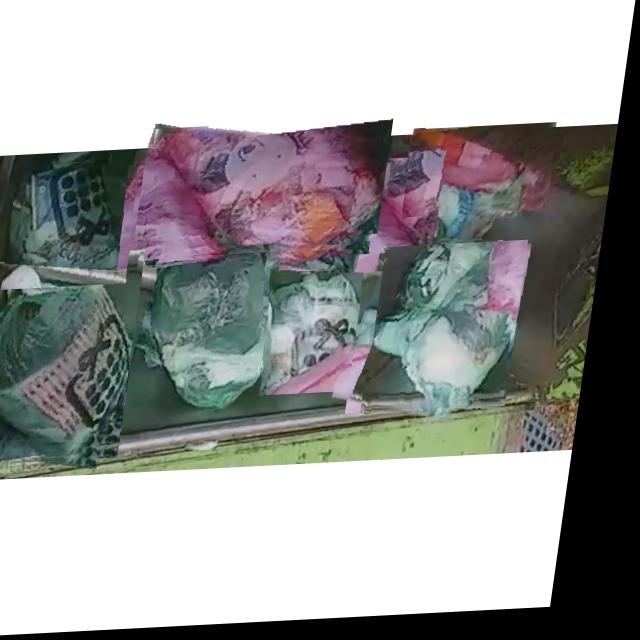general_trashbag: (0, 255, 142, 459), (385, 248, 523, 410), (161, 256, 285, 410), (369, 273, 497, 412), (18, 160, 138, 288), (278, 276, 369, 398), (428, 248, 499, 318)
other_trashbag: (156, 130, 389, 255), (284, 166, 435, 330), (418, 133, 557, 208)
